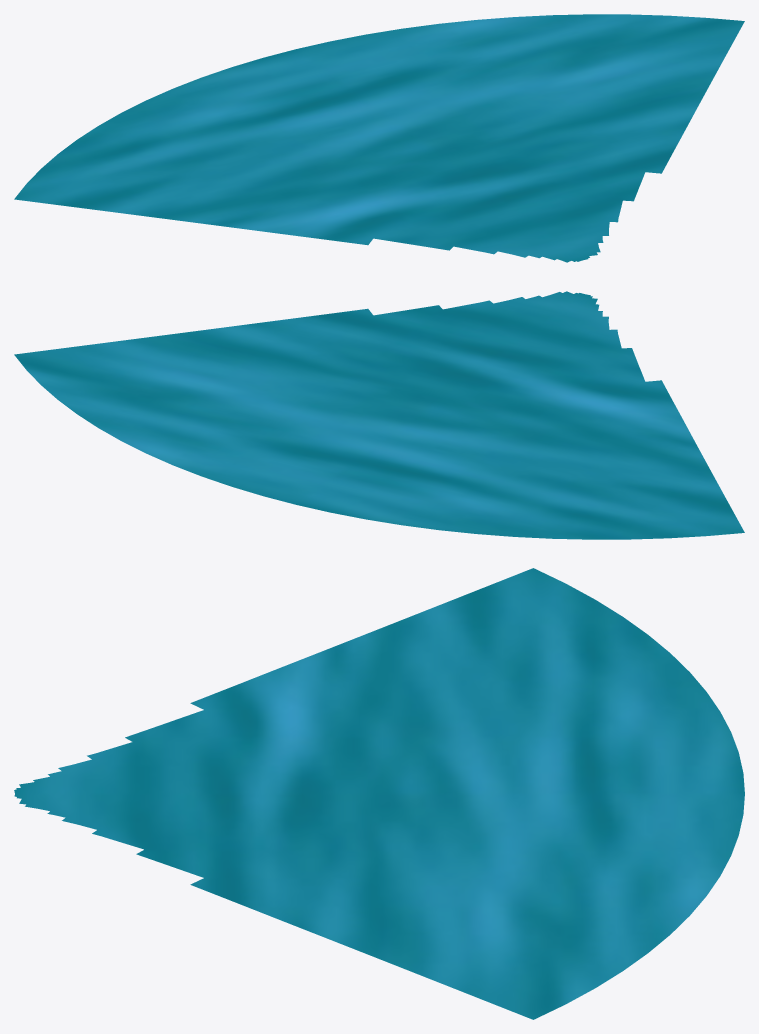
File: SeaPatch31.fbx
3 views of the same model, one above another, from view 1: azimuth 30°, elevation 25°; view 2: azimuth 150°, elevation 25°; view 3: azimuth 270°, elevation 25° (orthographic). The views are drawn at different scales.
Visible parts, largest first — view 1: patchgeometry; view 2: patchgeometry; view 3: patchgeometry.
Part boxes in pixels (<box>): patchgeometry: <box>14,14,744,262</box>; patchgeometry: <box>14,291,744,539</box>; patchgeometry: <box>14,568,744,1019</box>.
Size of what is drawn, in the model's own units: 197594 by 0.022 by 135057.
1 material, 1 textured.
